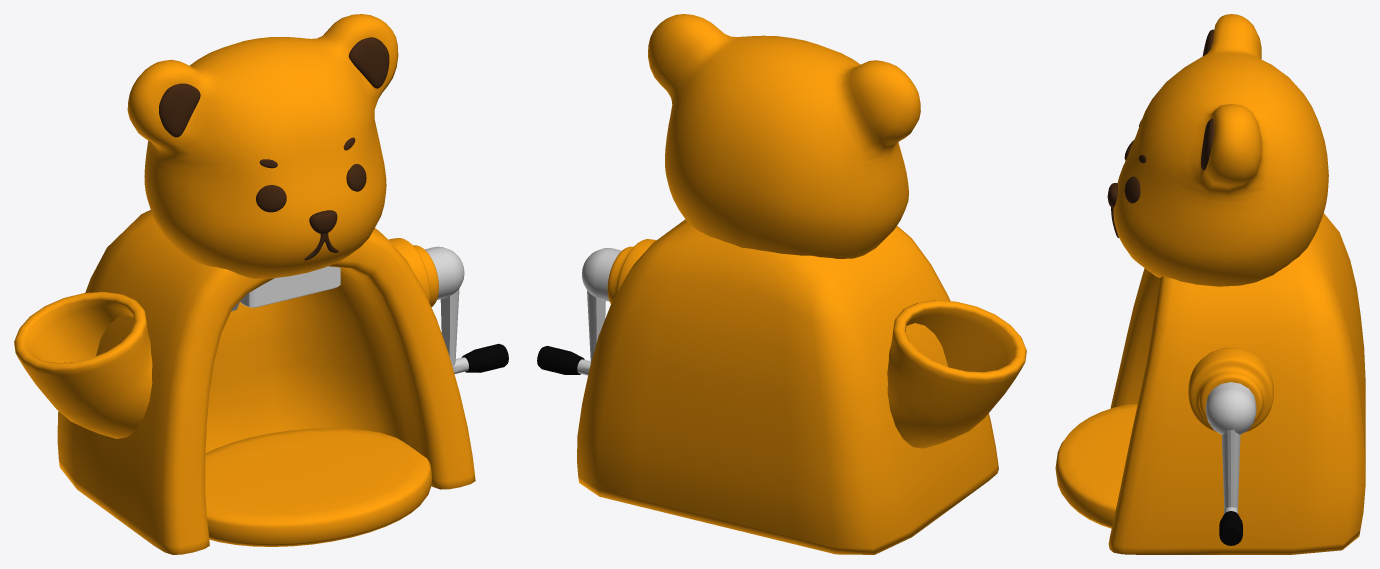
The model's file is Color_changer.fbx.
The picture shows the model from 3 angles, left to right: view 1: azimuth 30°, elevation 25°; view 2: azimuth 150°, elevation 25°; view 3: azimuth 270°, elevation 25°; orthographic projection. The views are drawn at different scales.
Parts seen in each view (by area): view 1: body, face, lever; view 2: body, lever; view 3: body, lever, face.
Boxes of the visible parts, box(x1,y1,x2,y2) form: body: box(14, 14, 475, 554); face: box(159, 37, 389, 260); lever: box(425, 246, 508, 373); body: box(577, 14, 1026, 554); lever: box(537, 248, 621, 375); body: box(1055, 14, 1365, 554); lever: box(1205, 382, 1256, 545); face: box(1107, 29, 1214, 237).
Size of the model in its own units: 18.17 by 15.89 by 10.61.
